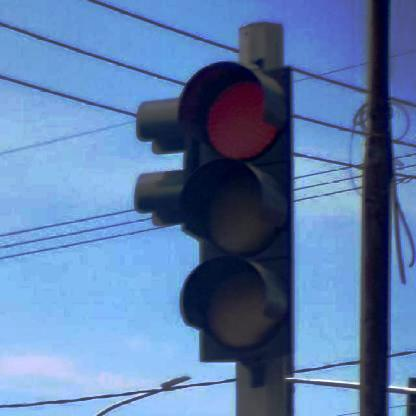Traffic Light -Red-: (177, 63, 294, 362)
